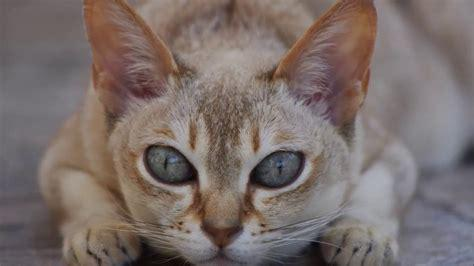cat: (40, 1, 420, 266)
